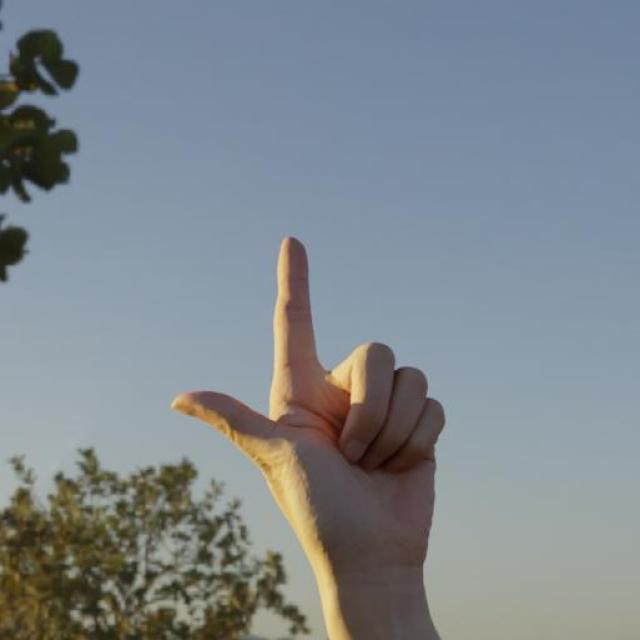L: (136, 202, 473, 586)
